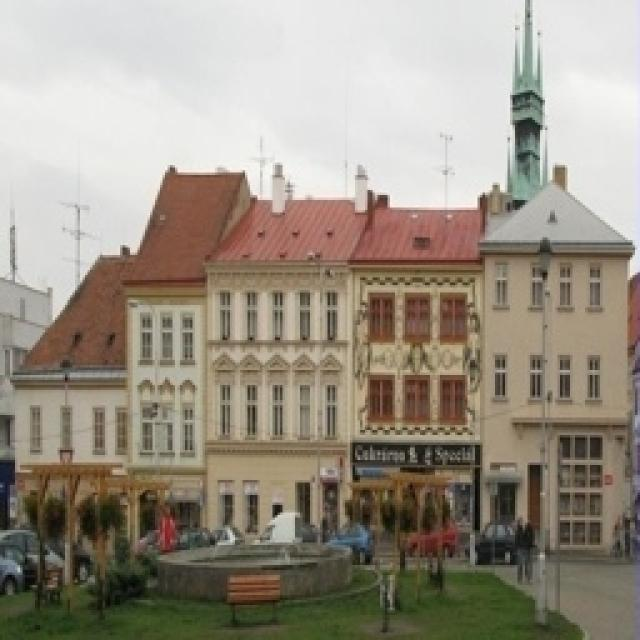building: (10, 145, 640, 637)
